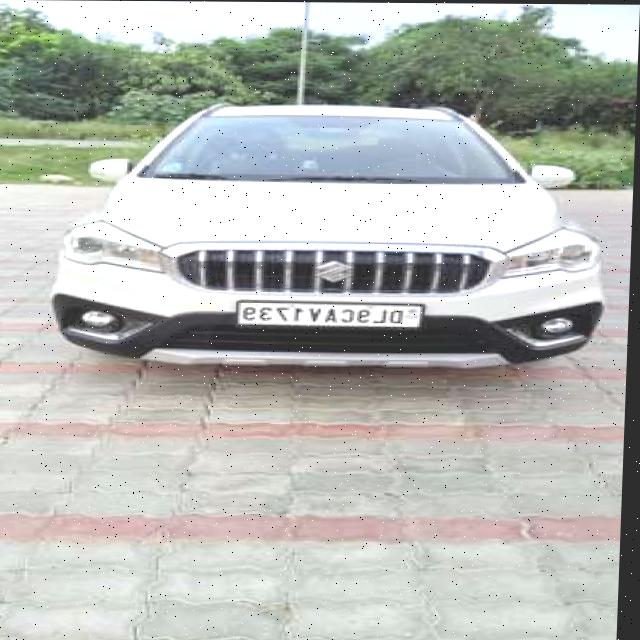plate: (239, 300, 430, 328)
